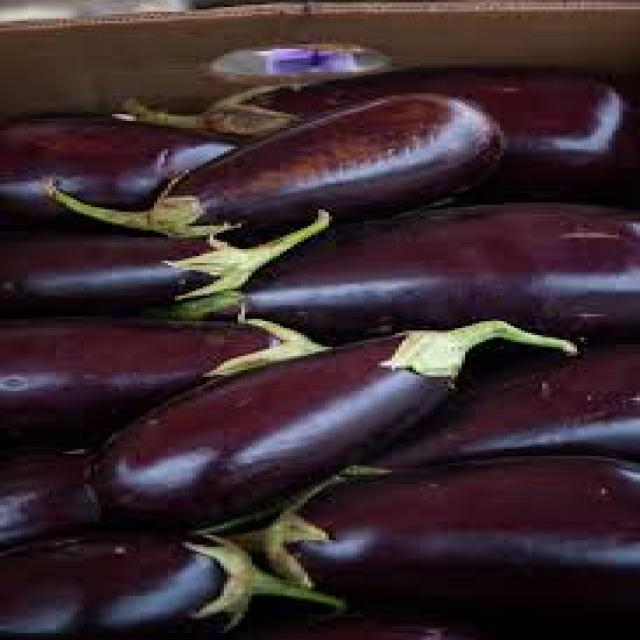eggplant: (94, 321, 577, 525), (50, 93, 504, 240)
